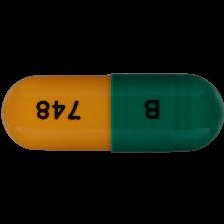51991-748: (0, 0, 224, 224)
